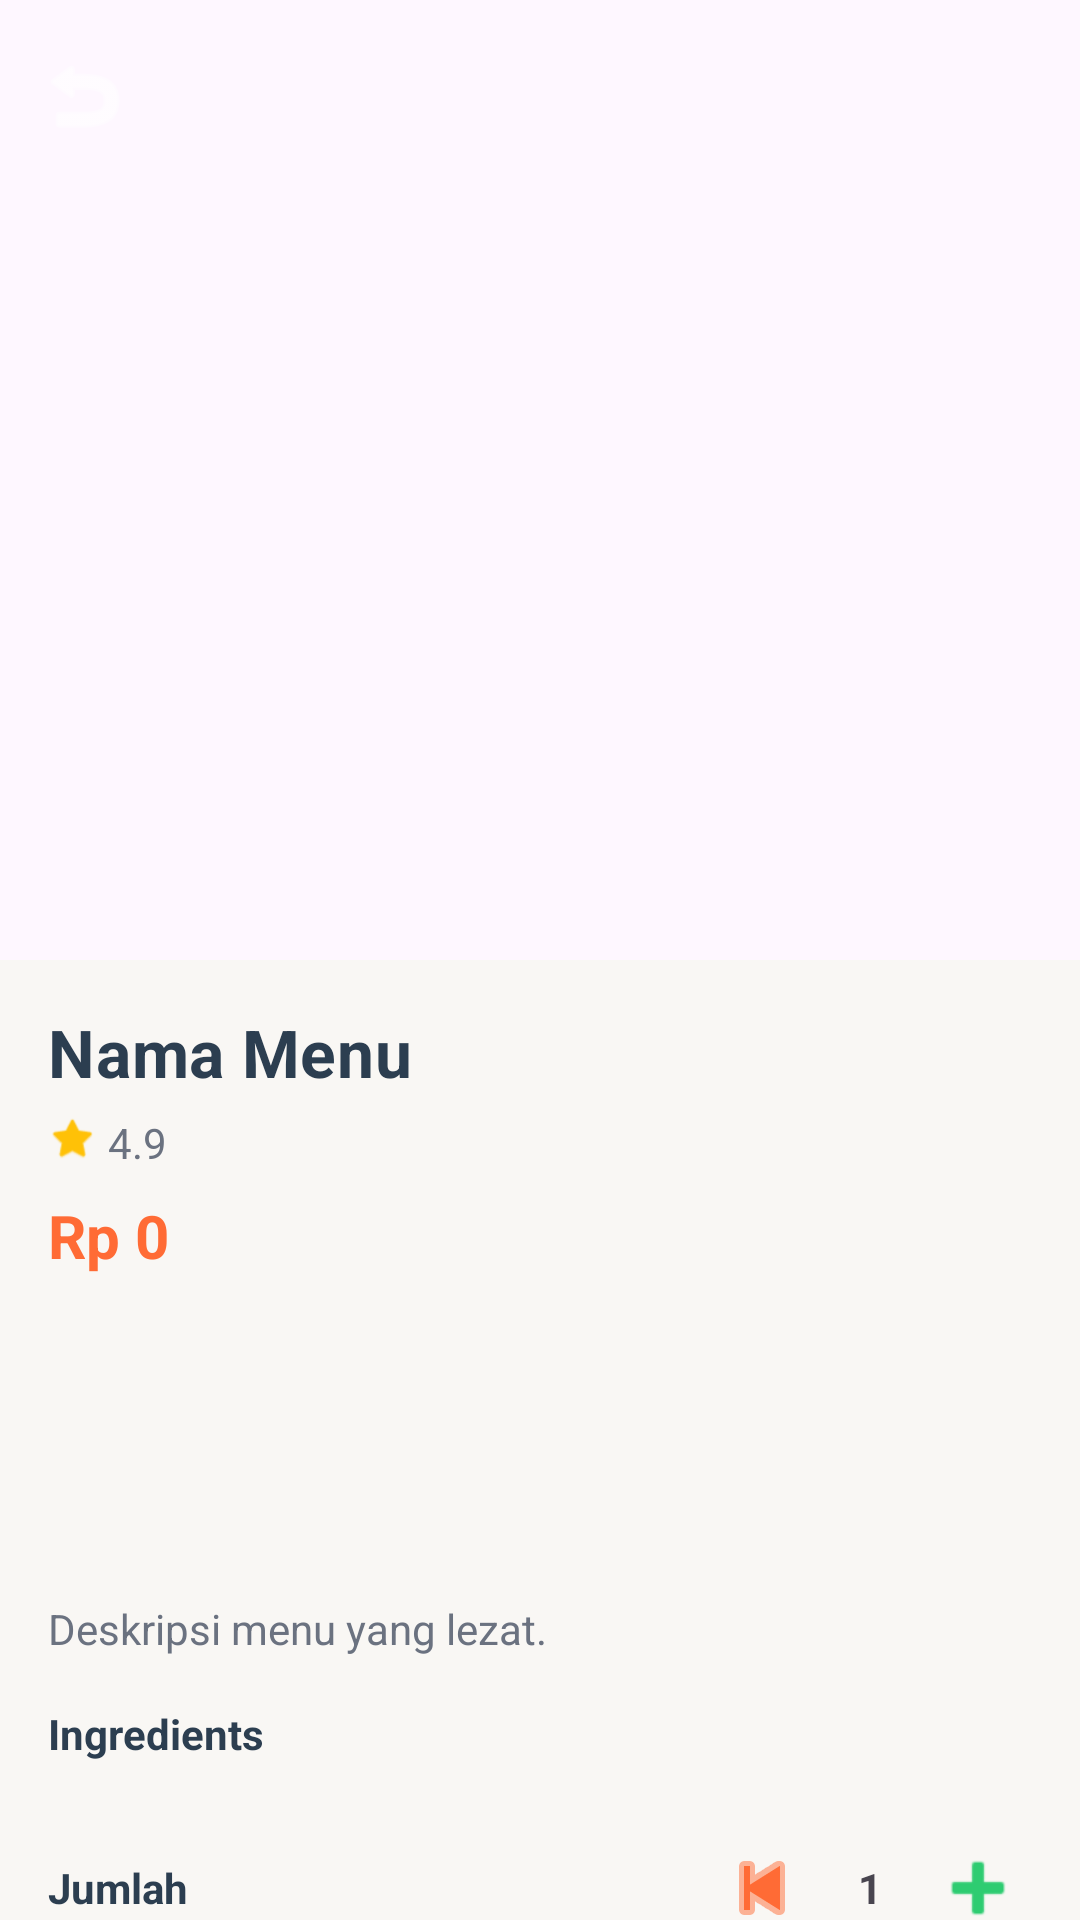

Point at icon controls on the screen. Image size 1080x1920, points as [x,y].
star on: [72,1138]
